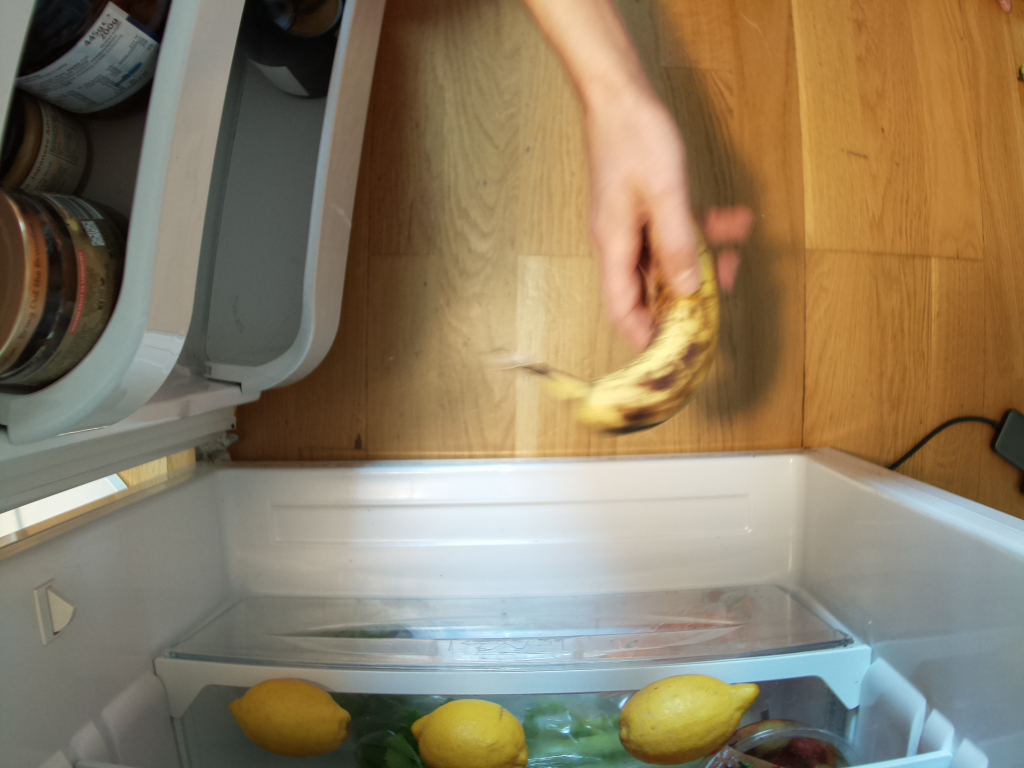banana-overripe: (503, 242, 724, 435)
